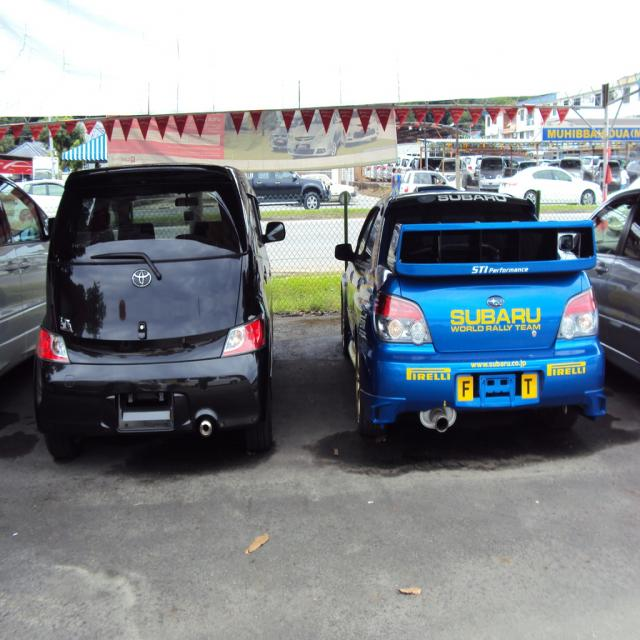other: (331, 184, 609, 443), (35, 158, 267, 464), (557, 183, 639, 381), (0, 170, 52, 378), (496, 166, 602, 202), (248, 170, 332, 210), (12, 178, 67, 223), (401, 165, 466, 196), (299, 170, 357, 203)
